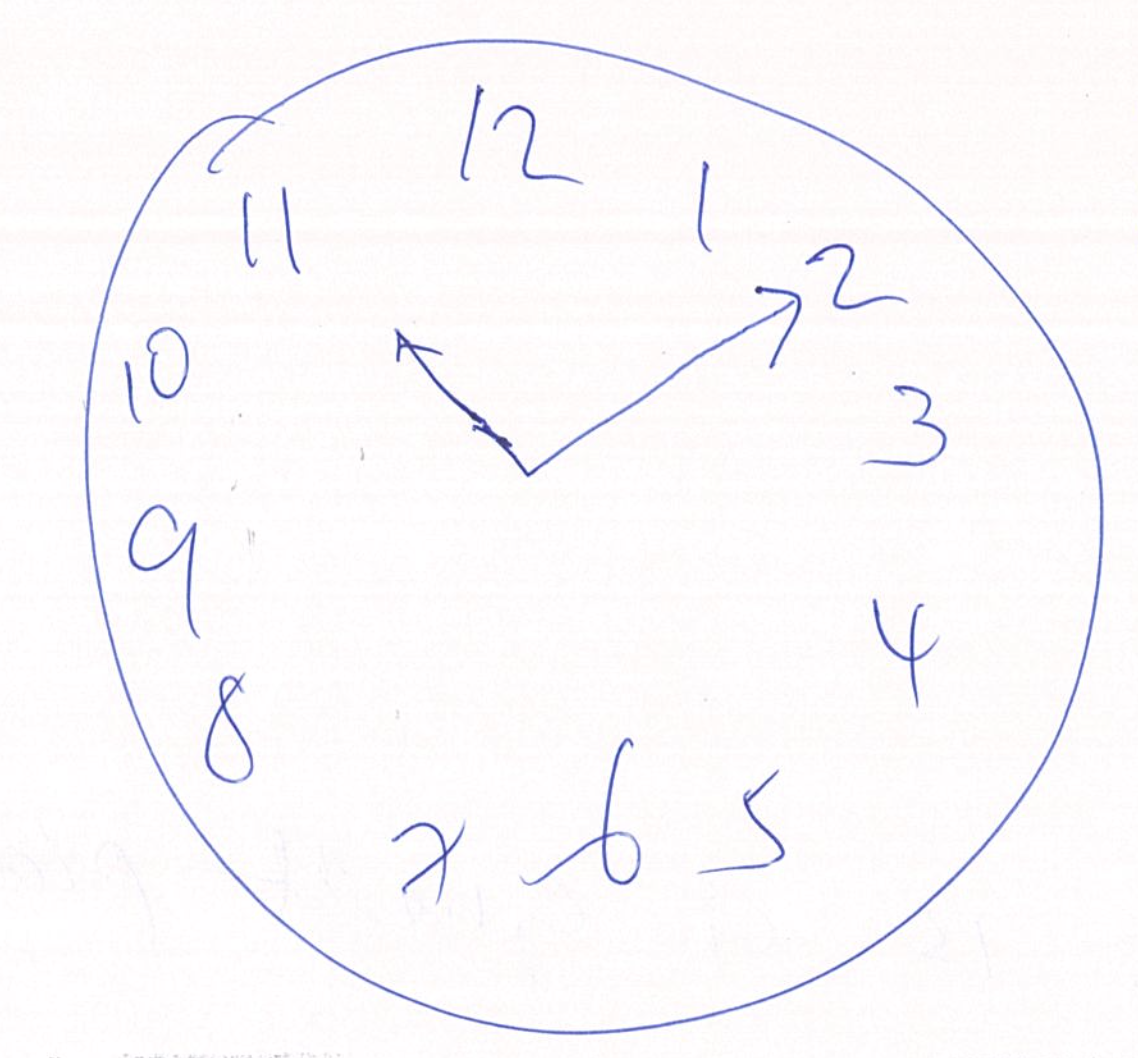1: (690, 155, 731, 262)
10: (113, 321, 195, 434)
11: (234, 176, 305, 283)
12: (454, 83, 591, 200)
2: (795, 242, 916, 315)
3: (862, 367, 947, 477)
4: (860, 590, 945, 709)
5: (694, 767, 799, 876)
6: (521, 733, 650, 899)
7: (379, 812, 470, 905)
8: (199, 666, 258, 789)
9: (119, 495, 206, 646)
contour: (72, 28, 1108, 1040)
hand: (391, 285, 803, 493)
top_left_arrow: (392, 328, 535, 482)
top_right_arrow: (522, 285, 804, 478)
